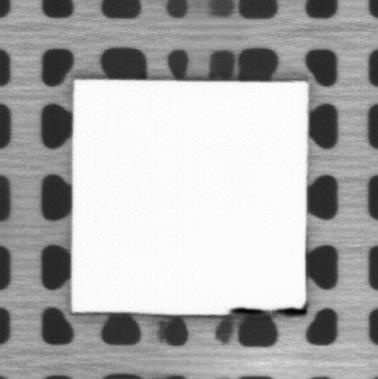DIE_BROKEN: (228, 303, 308, 316)
